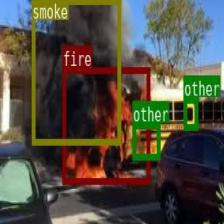fire: (62, 66, 149, 183)
smoke: (32, 0, 120, 144)
